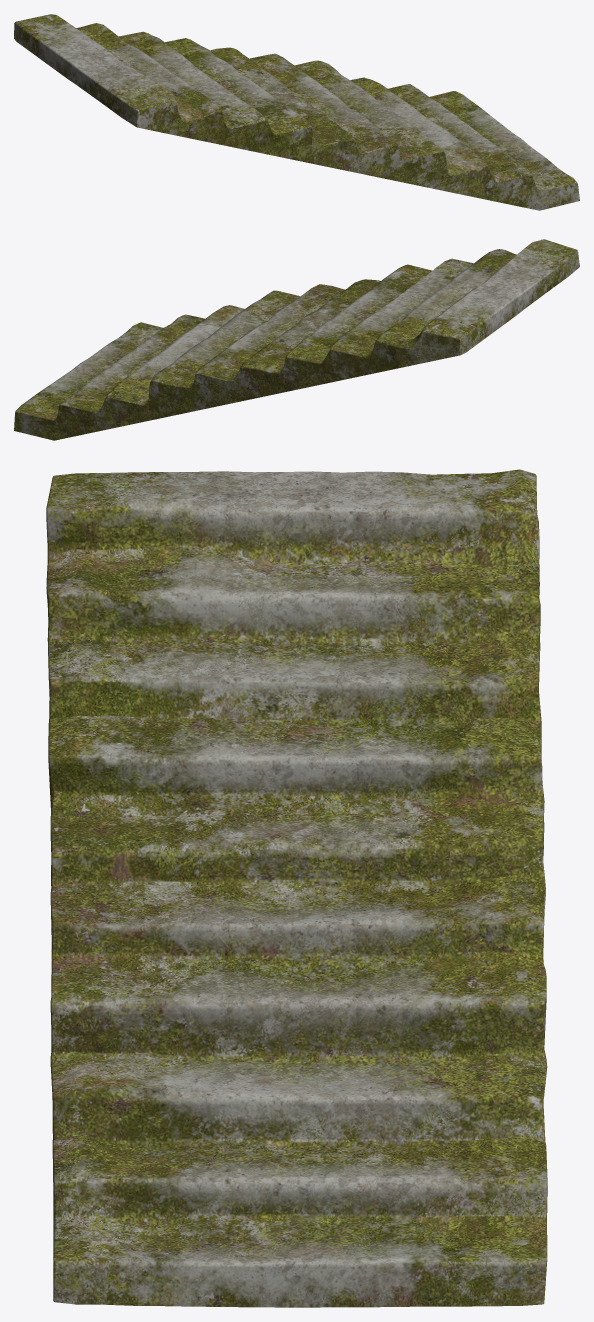
The model's file is stone_steps1.glb.
The picture shows the model from 3 angles, top to bottom: view 1: azimuth 30°, elevation 25°; view 2: azimuth 150°, elevation 25°; view 3: azimuth 270°, elevation 25°; orthographic projection. The views are drawn at different scales.
Visible parts, largest first — view 1: Object_2; view 2: Object_2; view 3: Object_2.
Boxes of the visible parts, x1,y1,x2,y2 form: Object_2: (14, 14, 579, 210); Object_2: (14, 239, 579, 440); Object_2: (46, 469, 547, 1307).
Size of the model in its own units: 3.14 by 1.37 by 1.52.
1 material, 1 textured.
